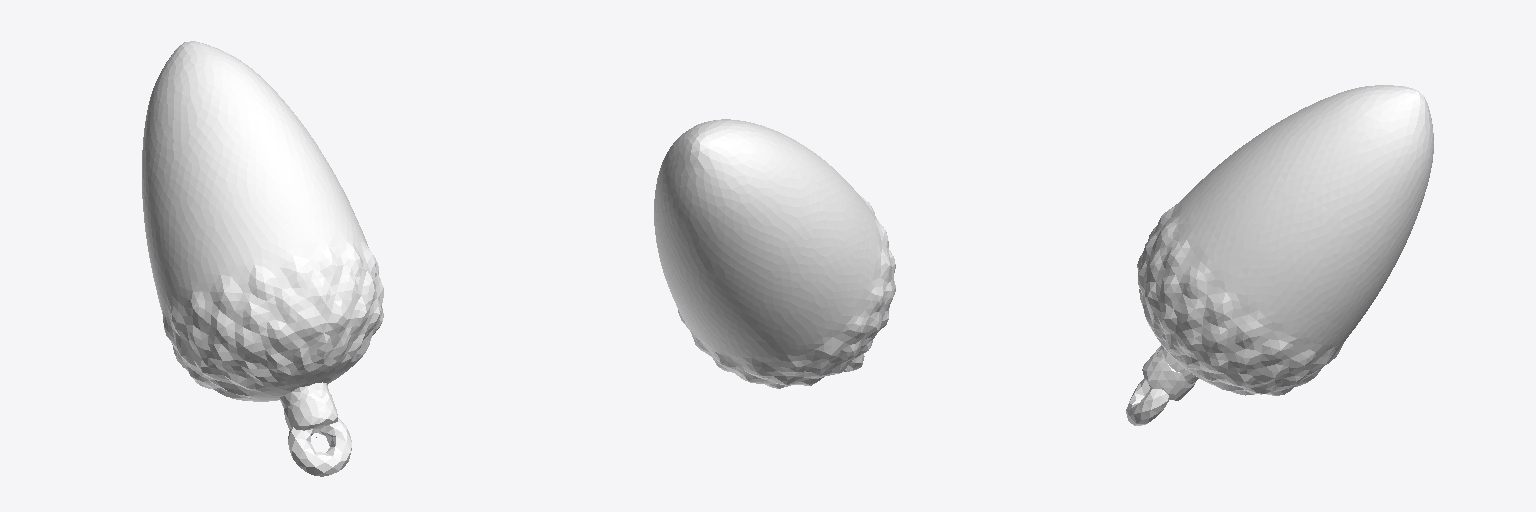
File: pinecone_flipped_scaled.obj
The picture shows the model from 3 angles: view 1: azimuth 30°, elevation 25°; view 2: azimuth 150°, elevation 25°; view 3: azimuth 270°, elevation 25°; orthographic projection.
Size of the model in its own units: 8.47 by 13.89 by 11.63.